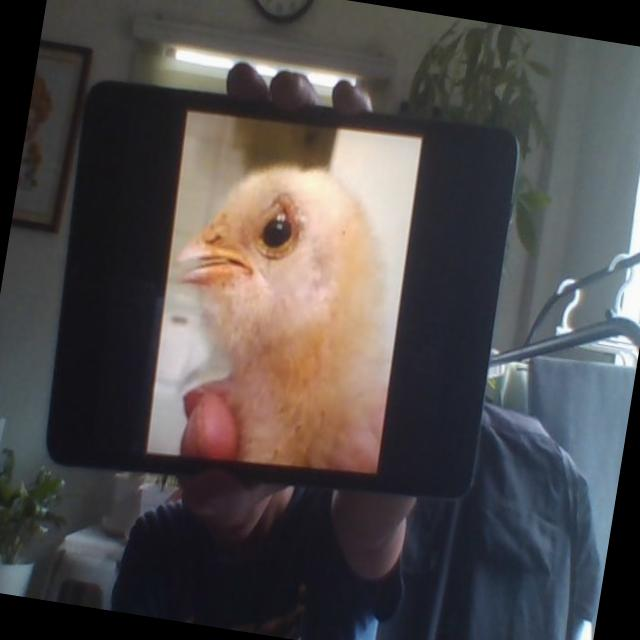Sick: (157, 151, 416, 476)
